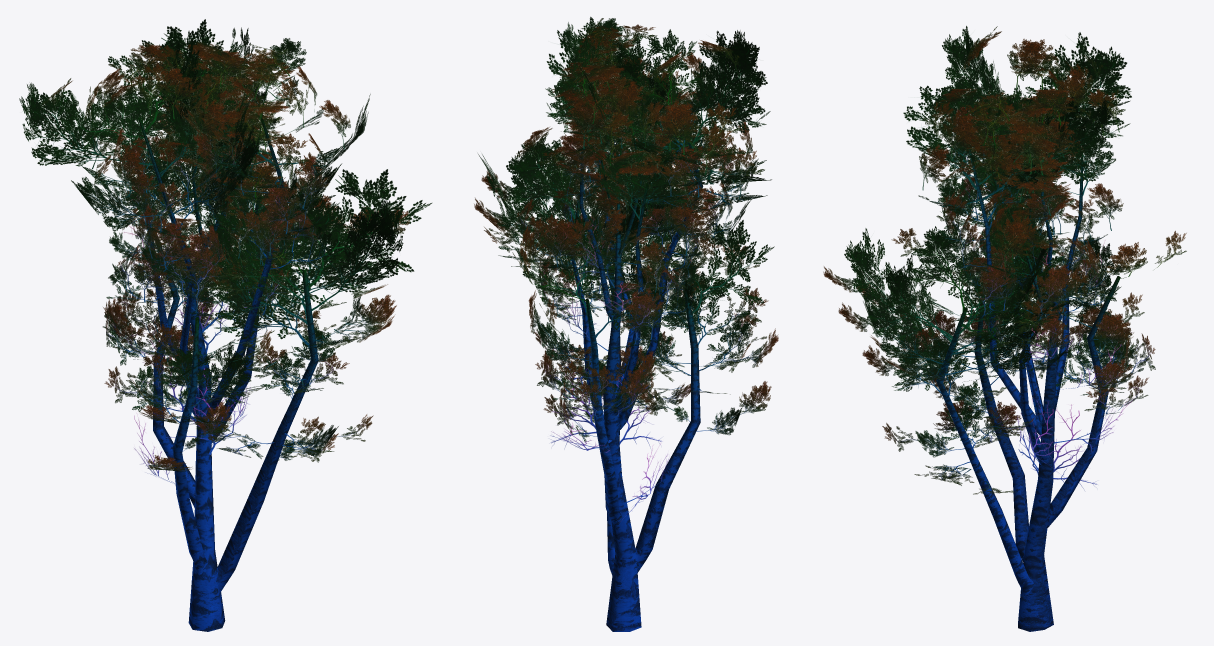
Rendered from Birch_B.glb.
3 renders of one model, left to right at view 1: azimuth 30°, elevation 25°; view 2: azimuth 150°, elevation 25°; view 3: azimuth 270°, elevation 25°, orthographic. The views are drawn at different scales.
Visible parts, largest first — view 1: BirchTreeB_LOD0; view 2: BirchTreeB_LOD0; view 3: BirchTreeB_LOD0.
Boxes of the visible parts, x1,y1,x2,y2 form: BirchTreeB_LOD0: (19,19,431,631); BirchTreeB_LOD0: (474,16,778,631); BirchTreeB_LOD0: (823,26,1186,631).
Size of what is drawn, in the model's own units: 7.12 by 11.08 by 6.65.
2 materials, 2 textured.
